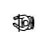Seat: (12, 13, 36, 31)
